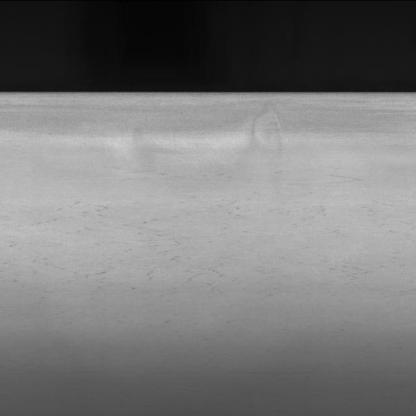silk_spot: (13, 186, 248, 308)
